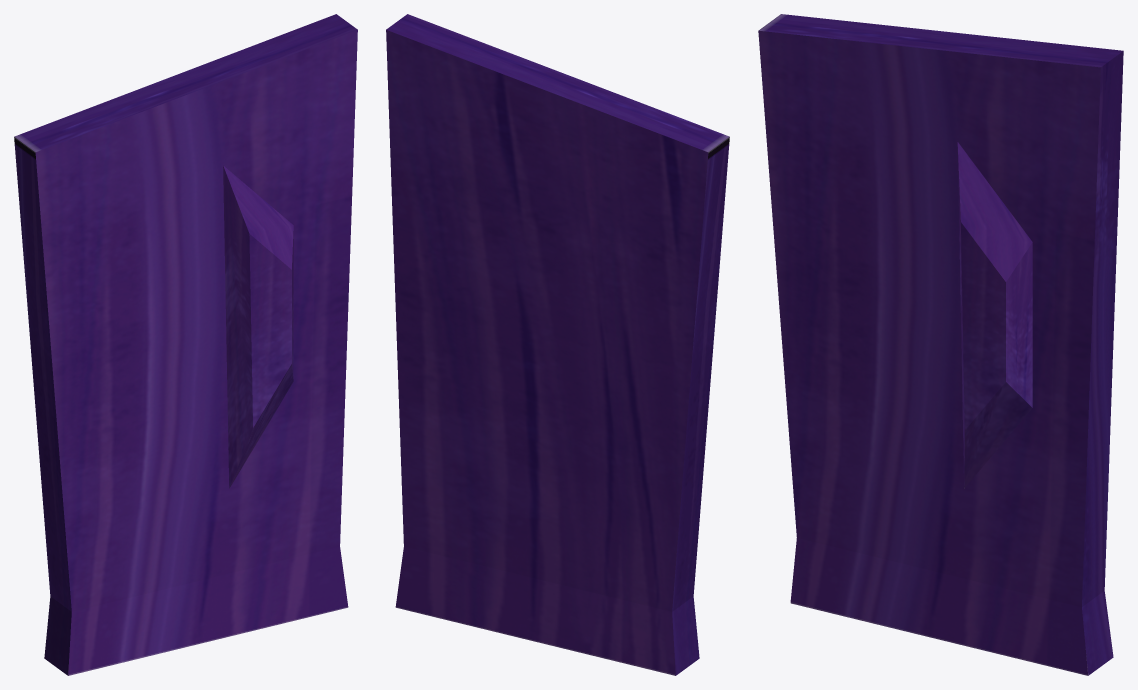
The model's file is Puerta_intermedia.glb.
3 views of the same model, side by side, from view 1: azimuth 30°, elevation 25°; view 2: azimuth 150°, elevation 25°; view 3: azimuth 330°, elevation 25° (orthographic). The views are drawn at different scales.
Parts seen in each view (by area): view 1: G_puerta2.001; view 2: G_puerta2.001; view 3: G_puerta2.001.
Part boxes in pixels (x1=…): G_puerta2.001: x1=14, y1=14, x2=357, y2=675; G_puerta2.001: x1=386, y1=14, x2=729, y2=675; G_puerta2.001: x1=758, y1=14, x2=1123, y2=675.
Size of the model in its own units: 3.6 by 6.13 by 0.6632.
1 material, 1 textured.
